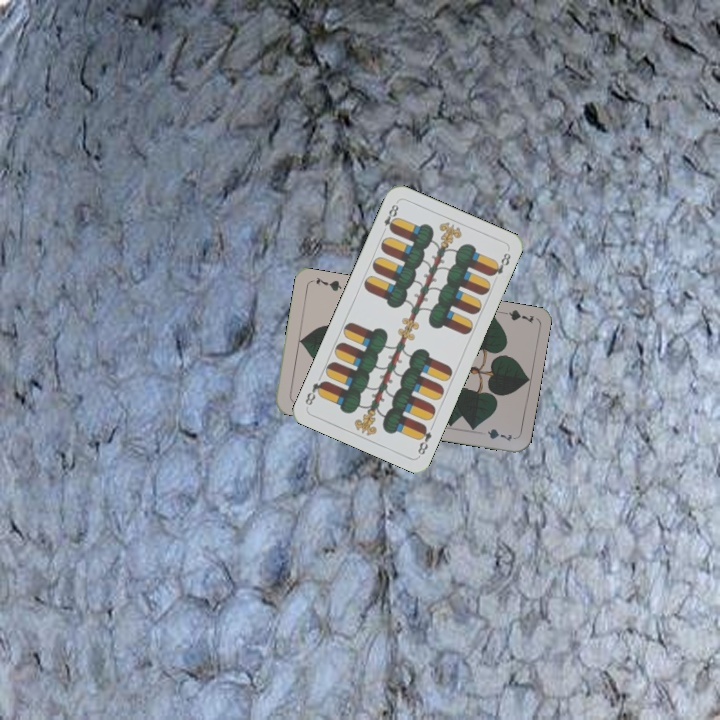E8: (378, 198, 401, 237), (414, 421, 434, 458)
G7: (495, 306, 536, 326)
